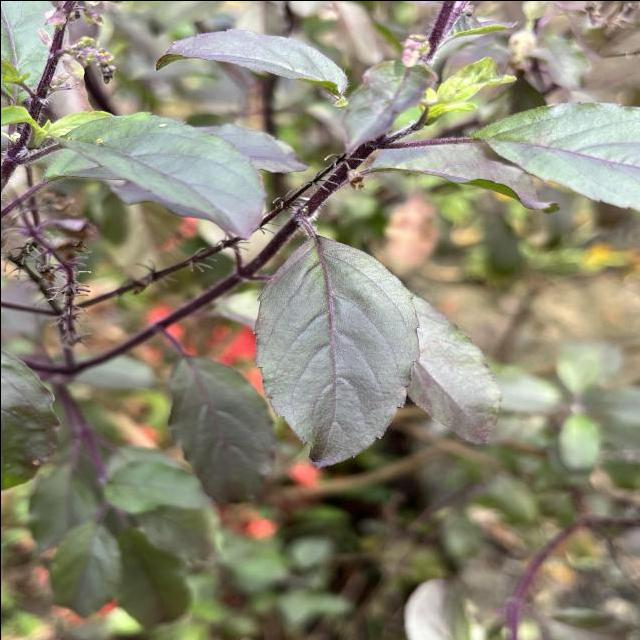Ocimum tenuiflorum: (248, 234, 422, 467)
